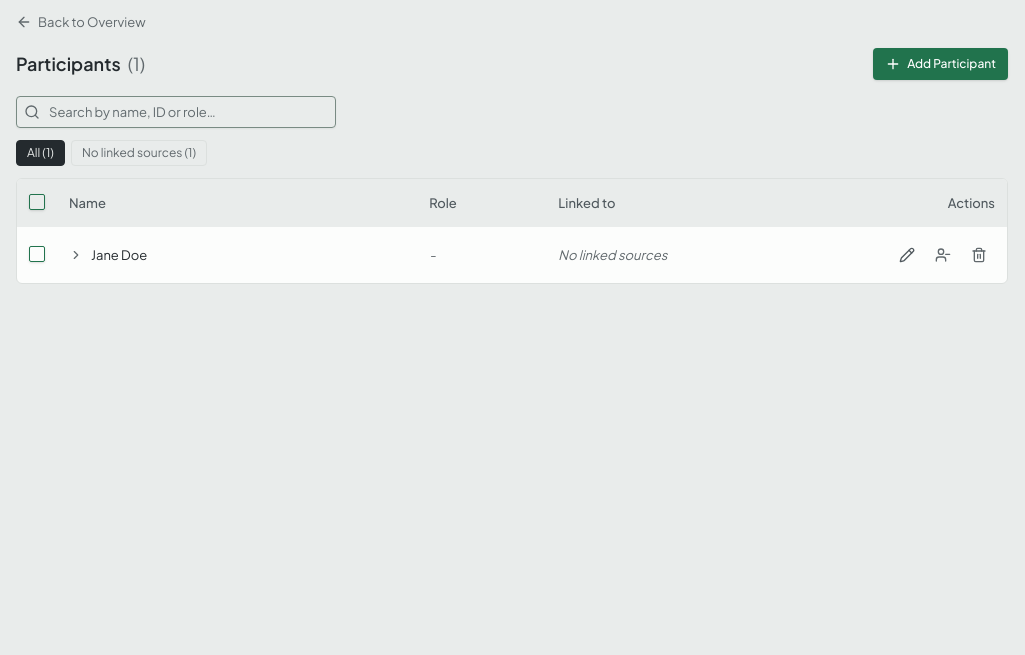
Test: #1130 — linking a record from the panel › each record is named with spaces between its parts, and a taken one says so
Expected: the text "Jane Doe" is shown, [91,245,147,265]
Click the text "Jane Doe" at (119, 255), box [17,227,1007,283]
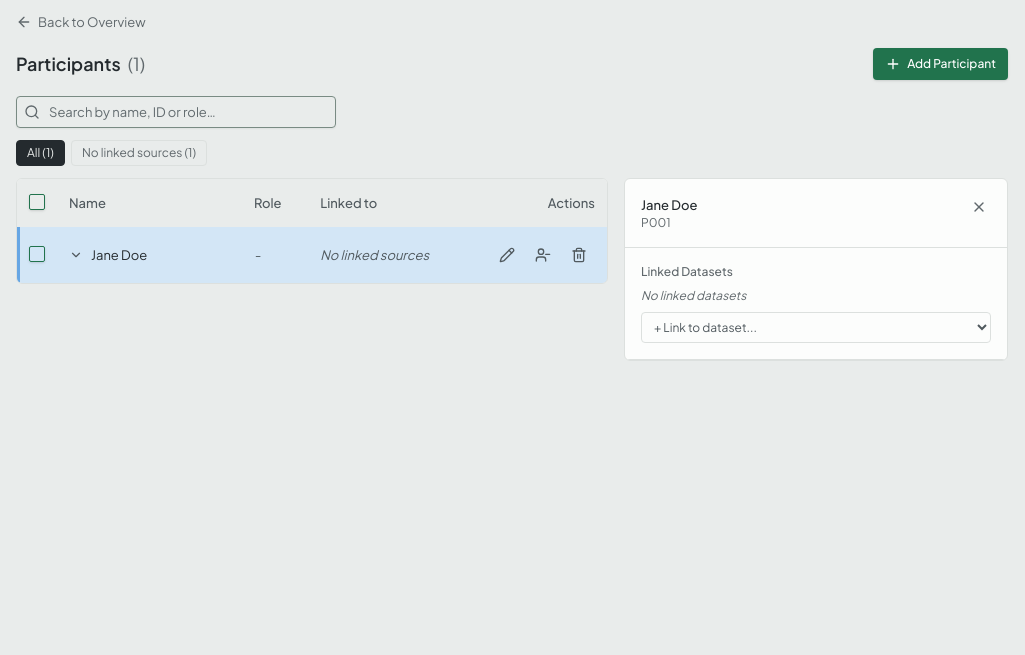
Select "Census" in the dropdown named "Link Jane Doe to a dataset record" at (816, 328), box [641,312,991,343]
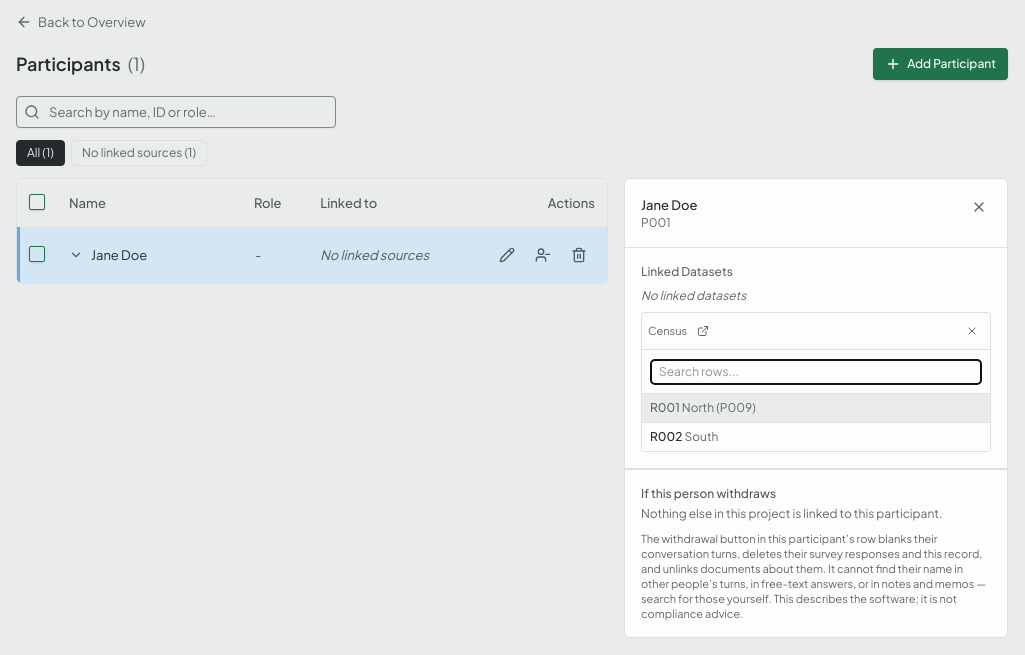
Now the field named "Search Census records" is shown, box [650,359,982,385]
Now the button named "R001 North (already linked to P009)" is disabled, box [642,394,990,423]
Now the button "R002 South" is enabled, box [642,423,990,451]
